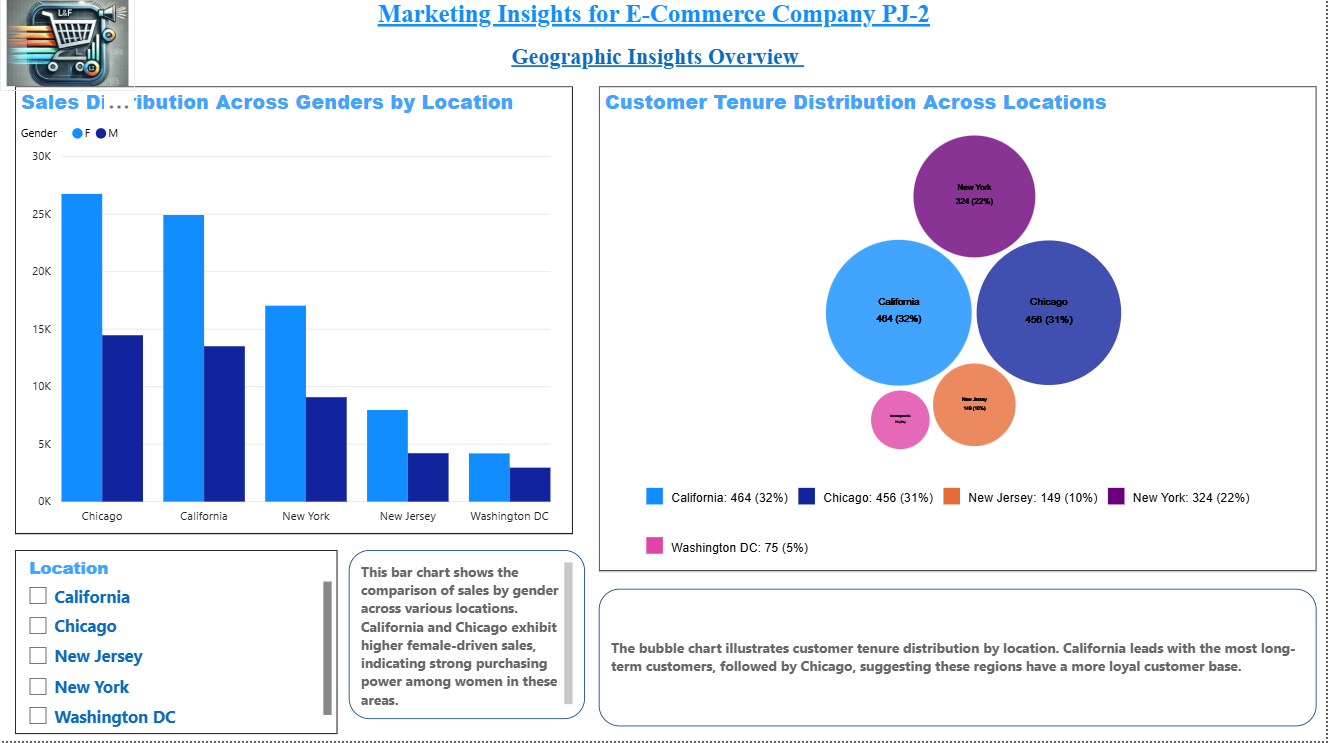

Layout of this report page (visuals, bound fields, positions):
{"tool":"powerbi","page":{"name":"GI","canvas":[1280,720],"ordinal":1},"visuals":[{"type":"textbox","box":[359.5,0,559.8,65.1],"z":0},{"type":"clusteredColumnChartByAkvelonBE487DE8B8674A59A098B9B16C950BA","title":"Sales Distribution Across Genders by Location","fields":{"Axis":["Customers.Location"],"Legend":["Customers.Gender"],"Value":["Online_Sales.Total Sales Value"]},"box":[14.5,88.1,538.1,431.9],"z":1000},{"type":"bubble_chart_visiochart_8c1a6a012eec332d822f79bf867dr059","title":"Customer Tenure Distribution Across Locations","fields":{"measure":["CountNonNull(Customers.Tenure_Months)"],"category":["Customers.Location"]},"box":[577.9,88.1,692.5,468.1],"z":2000},{"type":"slicer","fields":{"Values":["Customers.Location"]},"box":[14.5,535.7,311.3,177.3],"z":3000},{"type":"textbox","box":[488.6,42.2,301.6,45.8],"z":4000},{"type":"textbox","box":[336.6,535.7,228,162.9],"z":5000},{"type":"textbox","box":[577.9,573.1,692.5,132.7],"z":6000},{"type":"image","box":[0,0,130.3,92.9],"z":6001}]}

Visuals, with their boxes in screenshot pixels (x1, y1, x2, y2), scaled from the page's 1280x720 canvas onto the 1340x743 screenshot:
textbox: Rect(376, 0, 962, 67)
"Sales Distribution Across Genders by Location" clusteredColumnChartByAkvelonBE487DE8B8674A59A098B9B16C950BA: Rect(15, 91, 579, 537)
"Customer Tenure Distribution Across Locations" bubble_chart_visiochart_8c1a6a012eec332d822f79bf867dr059: Rect(605, 91, 1330, 574)
slicer - Customers.Location: Rect(15, 553, 341, 736)
textbox: Rect(512, 44, 827, 91)
textbox: Rect(352, 553, 591, 721)
textbox: Rect(605, 591, 1330, 728)
image: Rect(0, 0, 136, 96)
